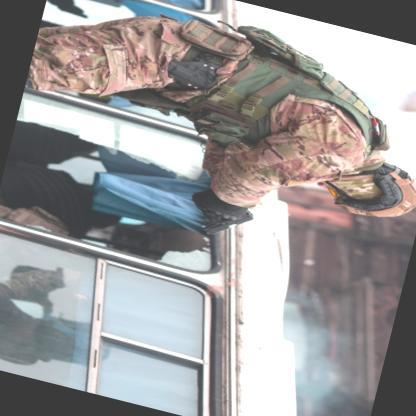rifle: (192, 194, 258, 247)
